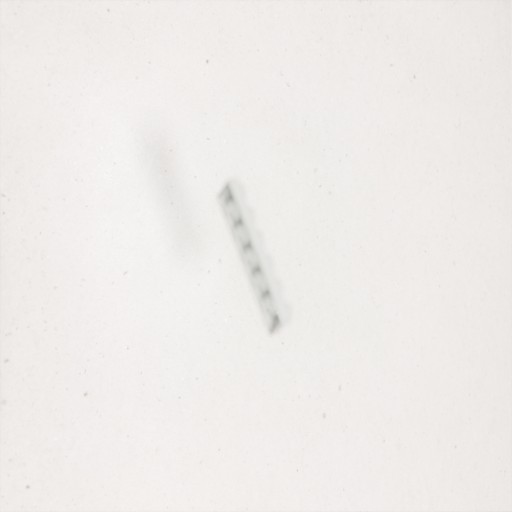lego: (216, 176, 293, 337)
